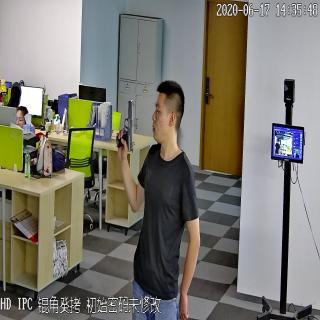gun: (116, 98, 136, 154)
